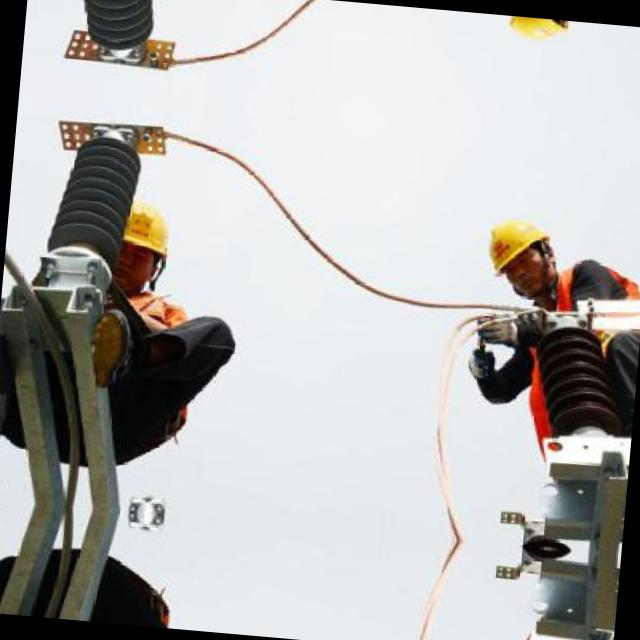helmet: (98, 198, 172, 302), (480, 219, 558, 292), (502, 15, 576, 39)
